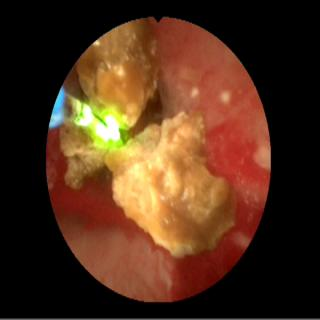laser: (94, 108, 125, 145), (78, 104, 92, 126)
stone: (62, 22, 233, 258)
tissue: (50, 27, 266, 294)
